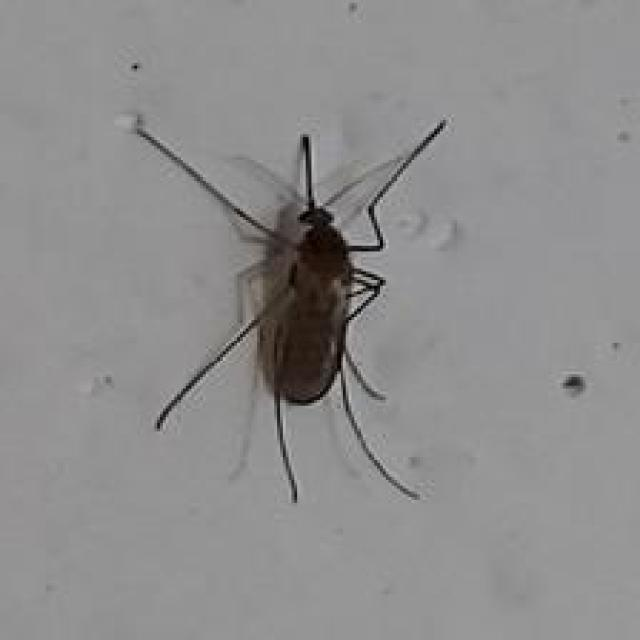Culex: (114, 93, 452, 504)
